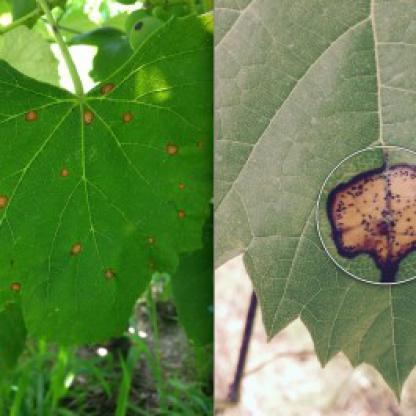grape leaf: (2, 14, 214, 375)
